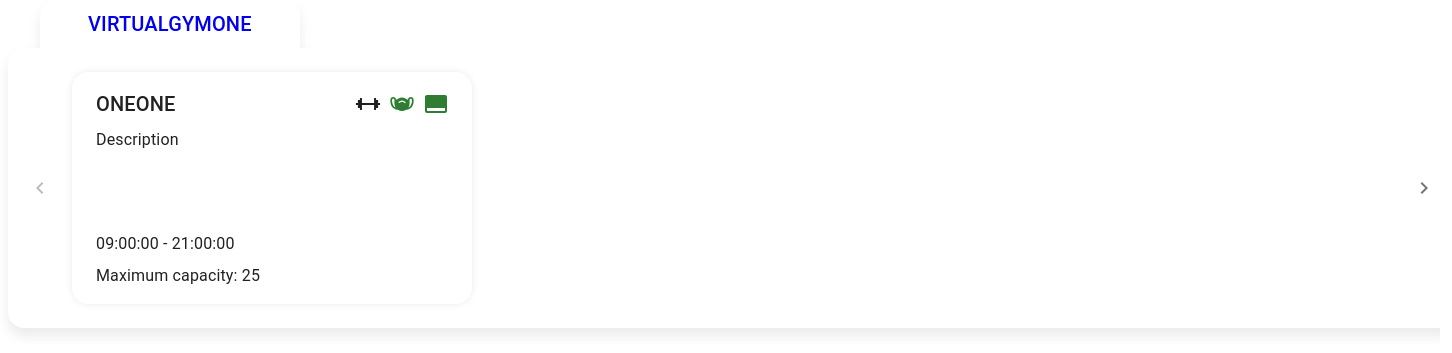
Test: <VirtualGymListItem /> › virtualGyms › should iterate the carousel
Expected: the button named "carousel-prev" is disabled, [20, 168, 60, 208]
Click the button named "carousel-next": [1422, 188] box [1404, 168, 1440, 208]
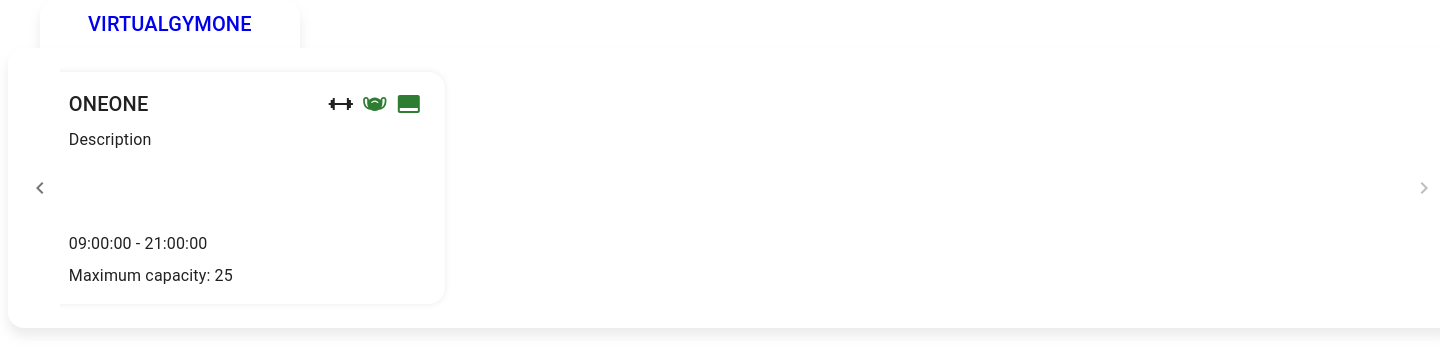
Expected: the button named "carousel-prev" is enabled
Click the button named "carousel-prev": [40, 188] box [20, 168, 60, 208]
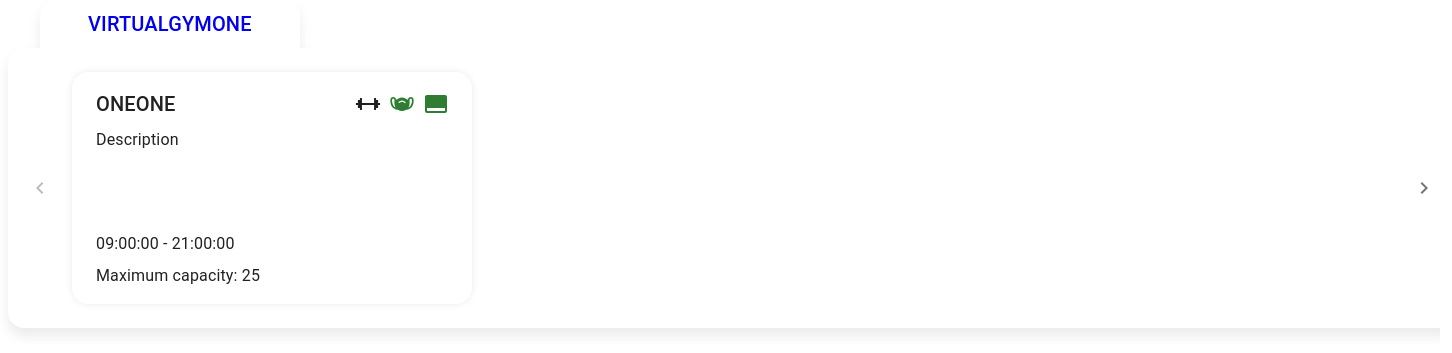
Expected: the button named "carousel-prev" is disabled, [20, 168, 60, 208]
